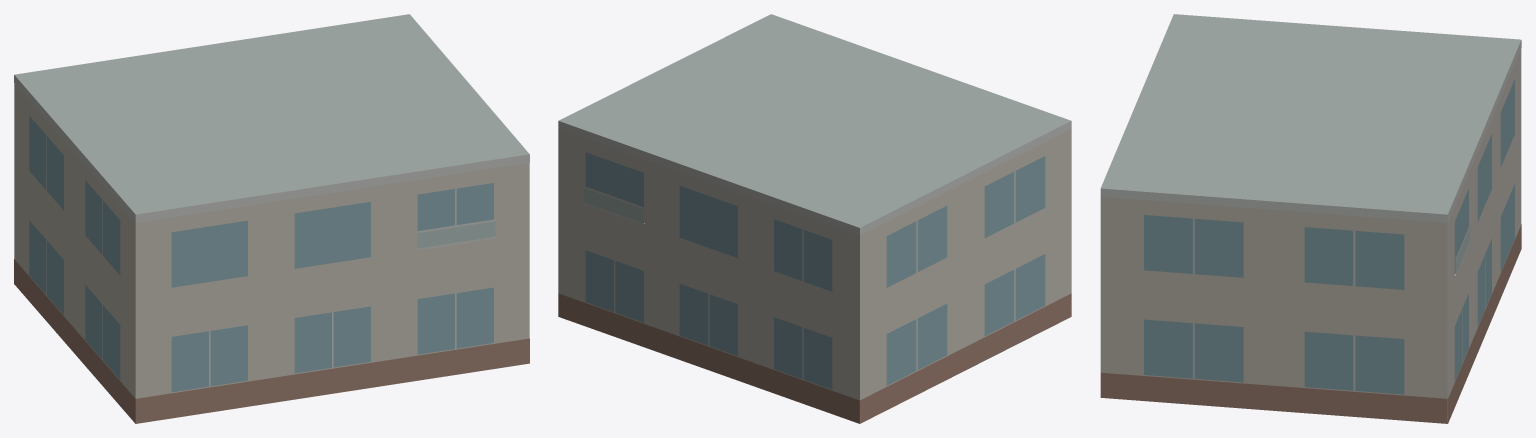
Rendered from survey-upis-32988217.glb.
3 views of the same model, side by side, from view 1: azimuth 30°, elevation 25°; view 2: azimuth 150°, elevation 25°; view 3: azimuth 270°, elevation 25° (orthographic). The views are drawn at different scales.
Visible parts, largest first — view 1: survey-upis-32988217.tmp; view 2: survey-upis-32988217.tmp; view 3: survey-upis-32988217.tmp.
Part boxes in pixels (bbox=[...]): survey-upis-32988217.tmp: bbox=[14, 14, 529, 423]; survey-upis-32988217.tmp: bbox=[558, 14, 1071, 423]; survey-upis-32988217.tmp: bbox=[1100, 14, 1521, 423].
Size of the model in its own units: 12.55 by 6.1 by 11.13.
